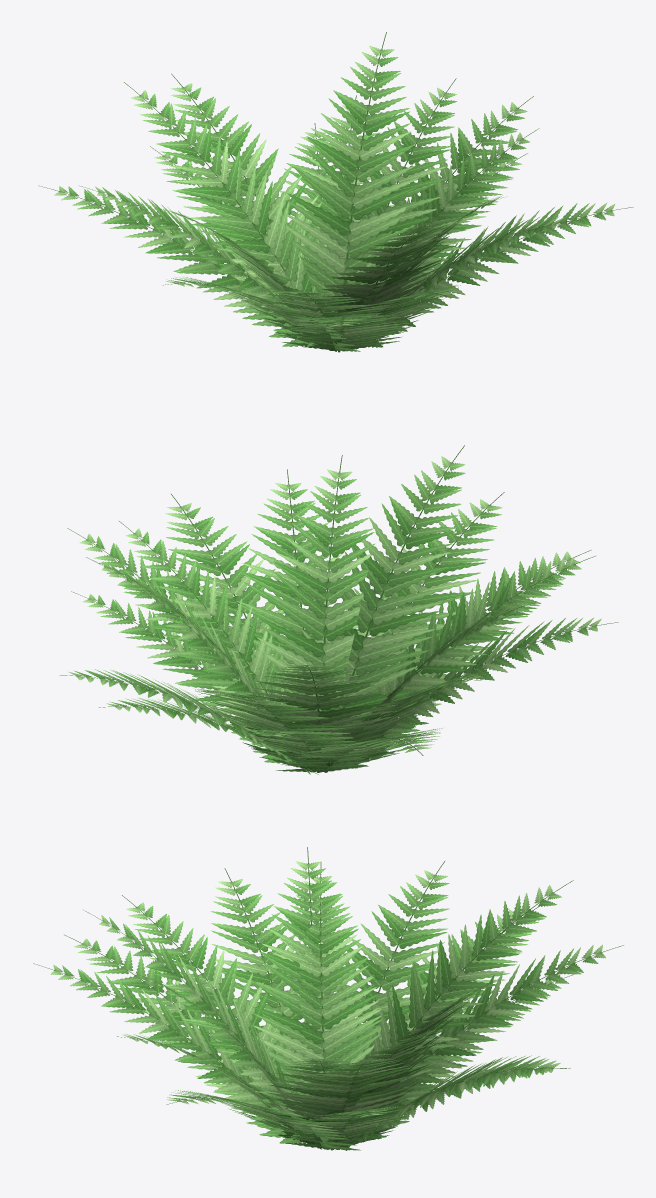
Rendered from felce_b.glb.
3 views of the same model, one above another, from view 1: azimuth 30°, elevation 25°; view 2: azimuth 150°, elevation 25°; view 3: azimuth 270°, elevation 25° (orthographic). The views are drawn at different scales.
Visible parts, largest first — view 1: fronde; view 2: fronde; view 3: fronde.
Part boxes in pixels (left/top/right/bottom): fronde: left=38, top=32, right=633, bottom=352; fronde: left=60, top=445, right=618, bottom=774; fronde: left=33, top=847, right=623, bottom=1150.
Bounding box in the file's own units: 2.03 × 0.8689 × 2.04.
Materials: 1 (1 with a texture image).
